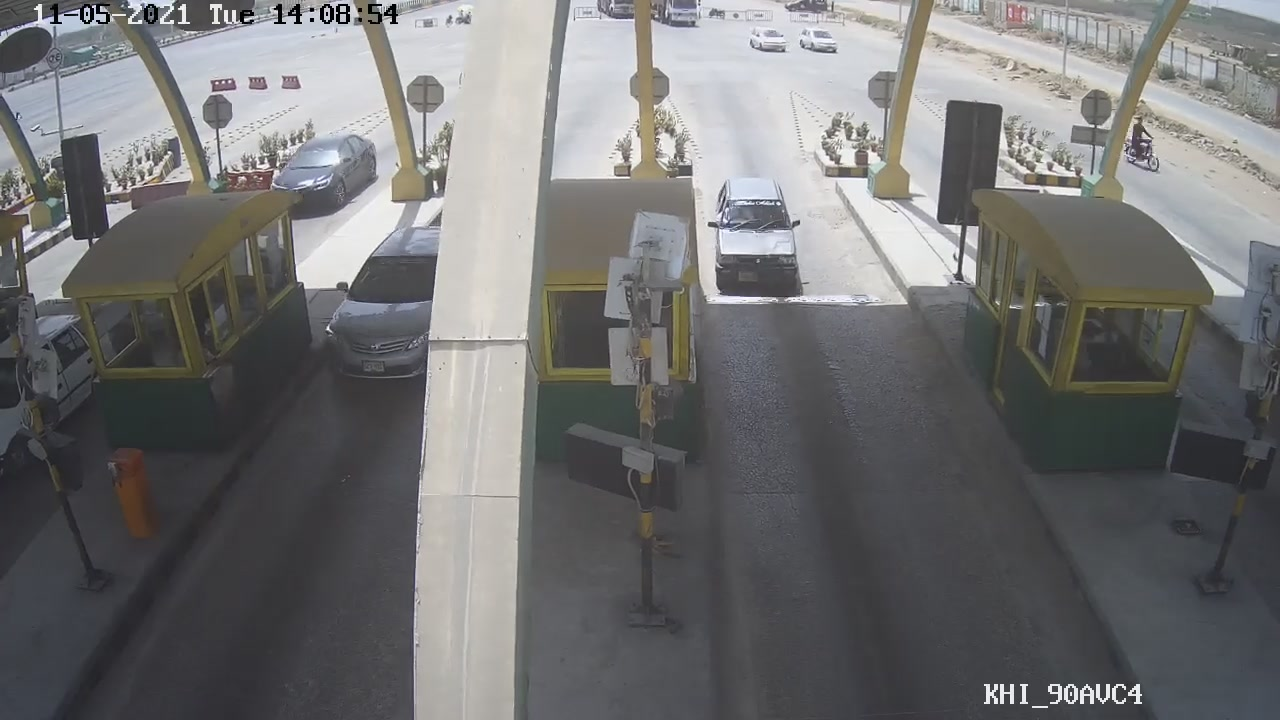F1: (701, 167, 820, 301)
